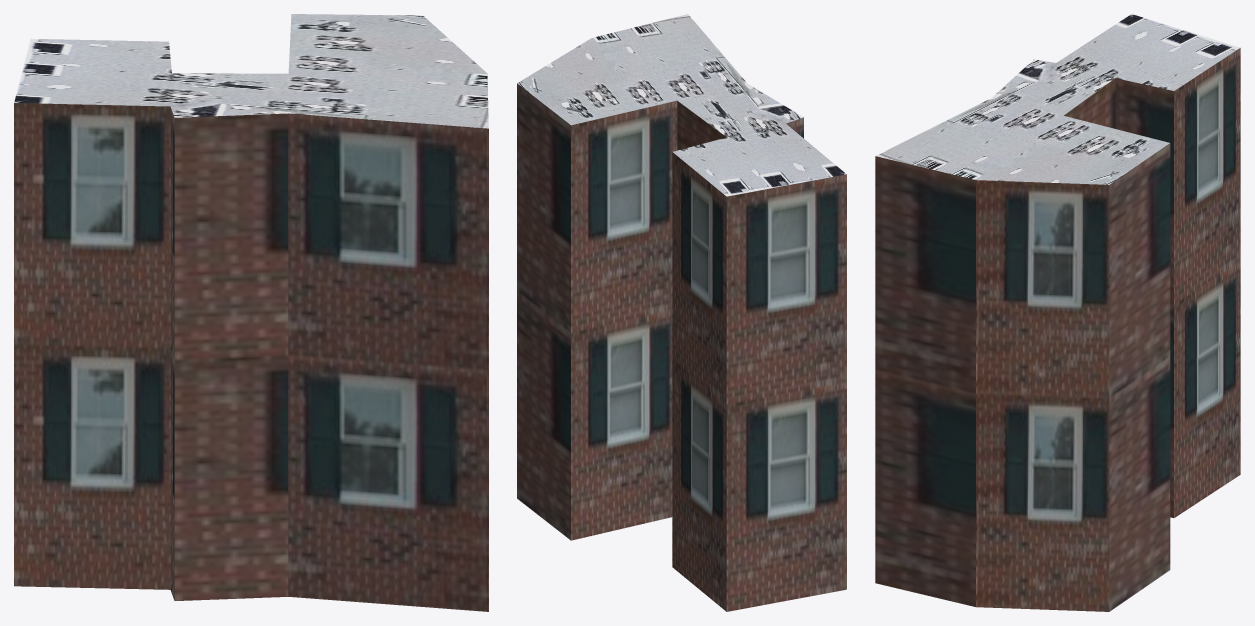
Rendered from ResTex__4321.fbx.
The picture shows the model from 3 angles, left to right: view 1: azimuth 30°, elevation 25°; view 2: azimuth 150°, elevation 25°; view 3: azimuth 270°, elevation 25°; orthographic projection. The views are drawn at different scales.
Visible parts, largest first — view 1: CityEngineMaterial_14_m, CityEngineMaterial_4_m; view 2: CityEngineMaterial_14_m, CityEngineMaterial_4_m; view 3: CityEngineMaterial_14_m, CityEngineMaterial_4_m.
Boxes of the visible parts, left/top/right/bottom form: CityEngineMaterial_14_m: left=14, top=103, right=488, bottom=611; CityEngineMaterial_4_m: left=14, top=14, right=488, bottom=128; CityEngineMaterial_14_m: left=517, top=83, right=846, bottom=611; CityEngineMaterial_4_m: left=517, top=14, right=846, bottom=196; CityEngineMaterial_14_m: left=875, top=48, right=1240, bottom=611; CityEngineMaterial_4_m: left=876, top=14, right=1239, bottom=184.
Size of the model in its own units: 5.15 by 6 by 4.65.
Materials: 2 (2 with a texture image).
